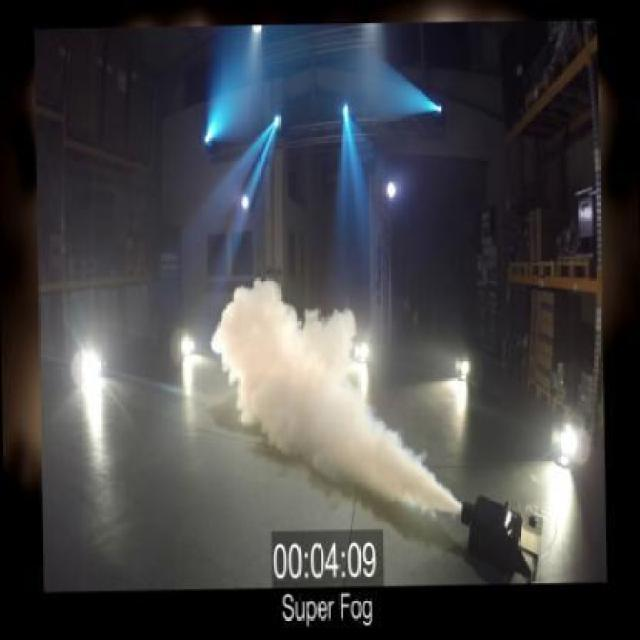fire: (207, 274, 426, 516)
